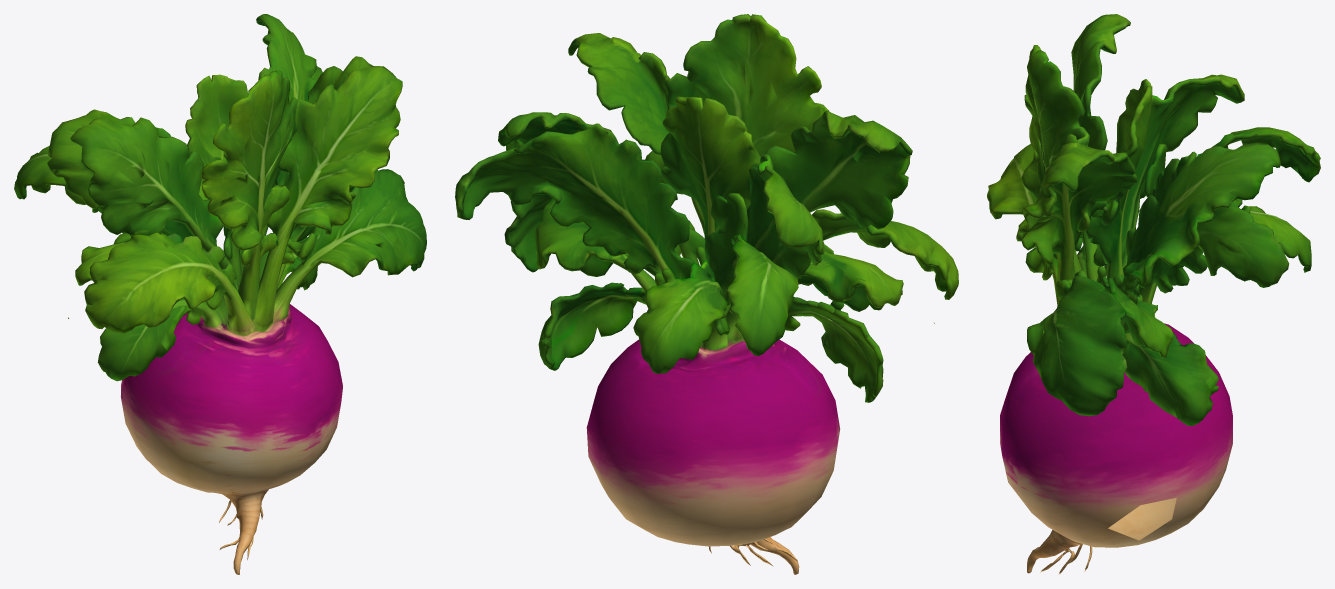
Rendered from turnip.glb.
3 views of the same model, side by side, from view 1: azimuth 30°, elevation 25°; view 2: azimuth 150°, elevation 25°; view 3: azimuth 270°, elevation 25° (orthographic). The views are drawn at different scales.
Parts seen in each view (by area): view 1: tripo_node_72c68d60-61d2-46b6-b77c-e44ae0393754; view 2: tripo_node_72c68d60-61d2-46b6-b77c-e44ae0393754; view 3: tripo_node_72c68d60-61d2-46b6-b77c-e44ae0393754.
Boxes of the visible parts, x1,y1,x2,y2 form: tripo_node_72c68d60-61d2-46b6-b77c-e44ae0393754: (14,14,426,574); tripo_node_72c68d60-61d2-46b6-b77c-e44ae0393754: (455,14,958,574); tripo_node_72c68d60-61d2-46b6-b77c-e44ae0393754: (987,14,1320,574).
Bounding box in the file's own units: 0.7624 × 0.9813 × 0.5473.
Materials: 1 (1 with a texture image).
